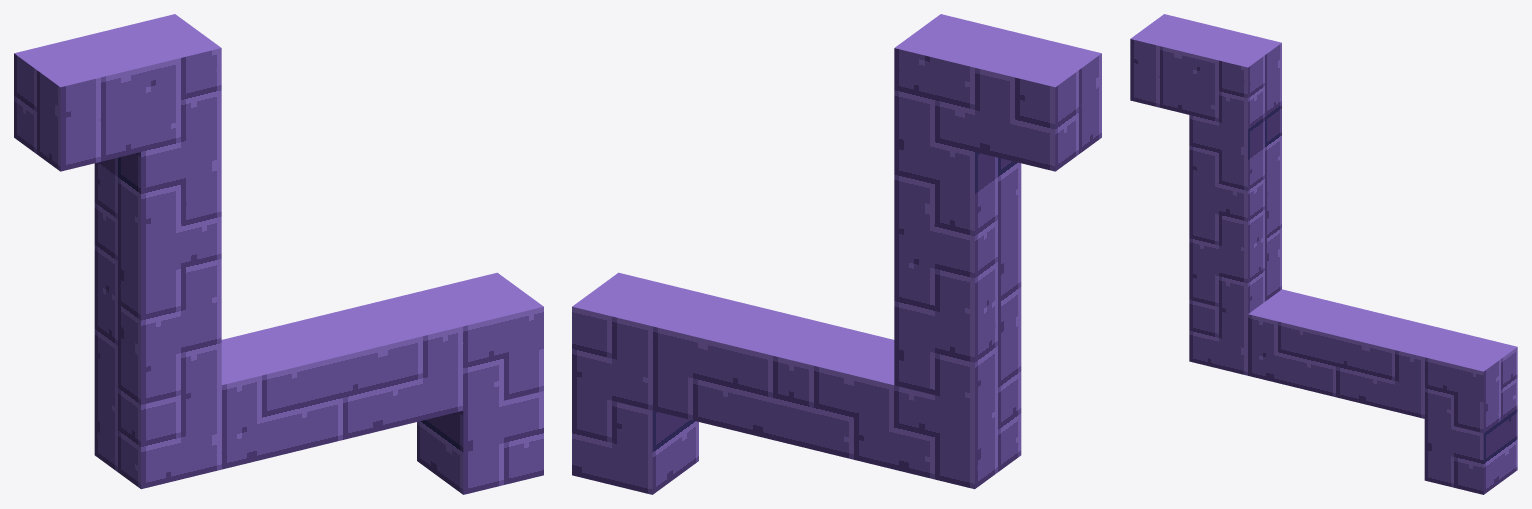
Rendered from stargate_bao.fezao.glb.
The picture shows the model from 3 angles, left to right: view 1: azimuth 30°, elevation 25°; view 2: azimuth 150°, elevation 25°; view 3: azimuth 330°, elevation 25°; orthographic projection. The views are drawn at different scales.
Visible parts, largest first — view 1: STARGATE_BAO; view 2: STARGATE_BAO; view 3: STARGATE_BAO.
Boxes of the visible parts, bbox=[...] form: STARGATE_BAO: bbox=[14, 14, 543, 494]; STARGATE_BAO: bbox=[572, 14, 1101, 494]; STARGATE_BAO: bbox=[1130, 14, 1517, 494].
Size of the model in its own units: 6 by 6 by 1.
Materials: 1 (1 with a texture image).
